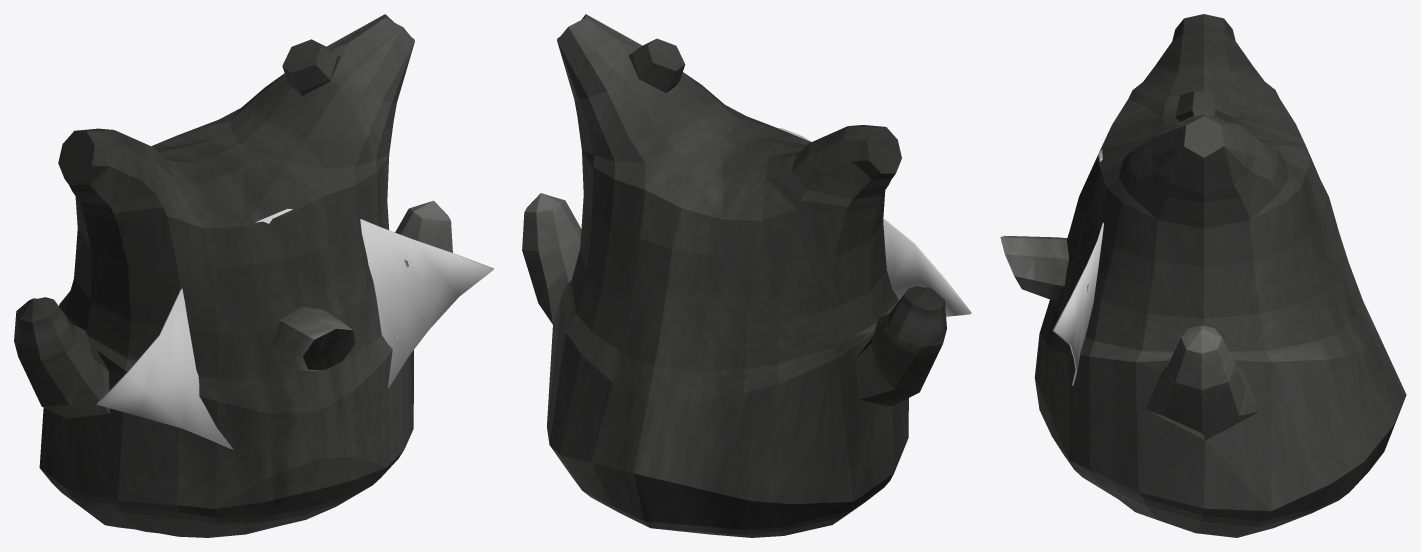
The model's file is frame_0071.obj.
3 views of the same model, side by side, from view 1: azimuth 30°, elevation 25°; view 2: azimuth 150°, elevation 25°; view 3: azimuth 270°, elevation 25° (orthographic). The views are drawn at different scales.
Visible parts, largest first — view 1: korok, leaf, nose; view 2: korok, leaf; view 3: korok, nose, leaf.
Part boxes in pixels (x1,y1,x2,y2): korok: [14, 14, 452, 537]; leaf: [97, 208, 493, 449]; nose: [272, 306, 355, 371]; korok: [522, 14, 946, 537]; leaf: [777, 128, 971, 316]; korok: [1034, 14, 1406, 537]; nose: [1000, 235, 1068, 301]; leaf: [1052, 149, 1103, 385].
Bounding box in the file's own units: 1.53 × 1.56 × 1.27.
